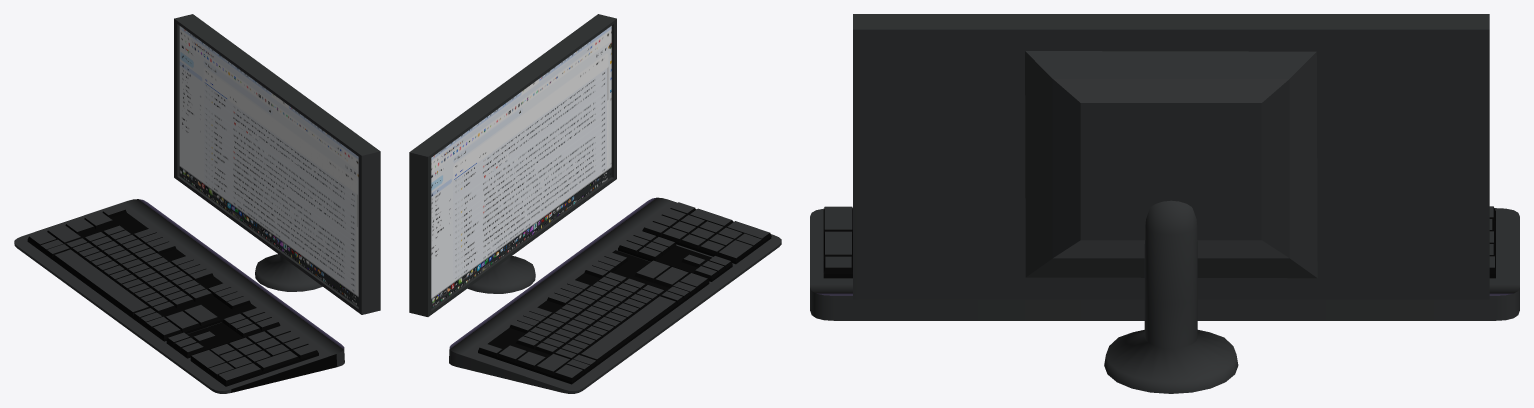
The model's file is PC-Display.FBX.
3 renders of one model, left to right at view 1: azimuth 30°, elevation 25°; view 2: azimuth 150°, elevation 25°; view 3: azimuth 270°, elevation 25°, orthographic. The views are drawn at different scales.
Parts seen in each view (by area): view 1: PC-Display; view 2: PC-Display; view 3: PC-Display.
Part boxes in pixels (x1,y1,x2,y2): PC-Display: [14, 14, 380, 393]; PC-Display: [409, 14, 781, 393]; PC-Display: [810, 14, 1519, 393].
Bounding box in the file's own units: 0.3454 × 0.5787 × 0.2967.
Materials: 1 (1 with a texture image).
